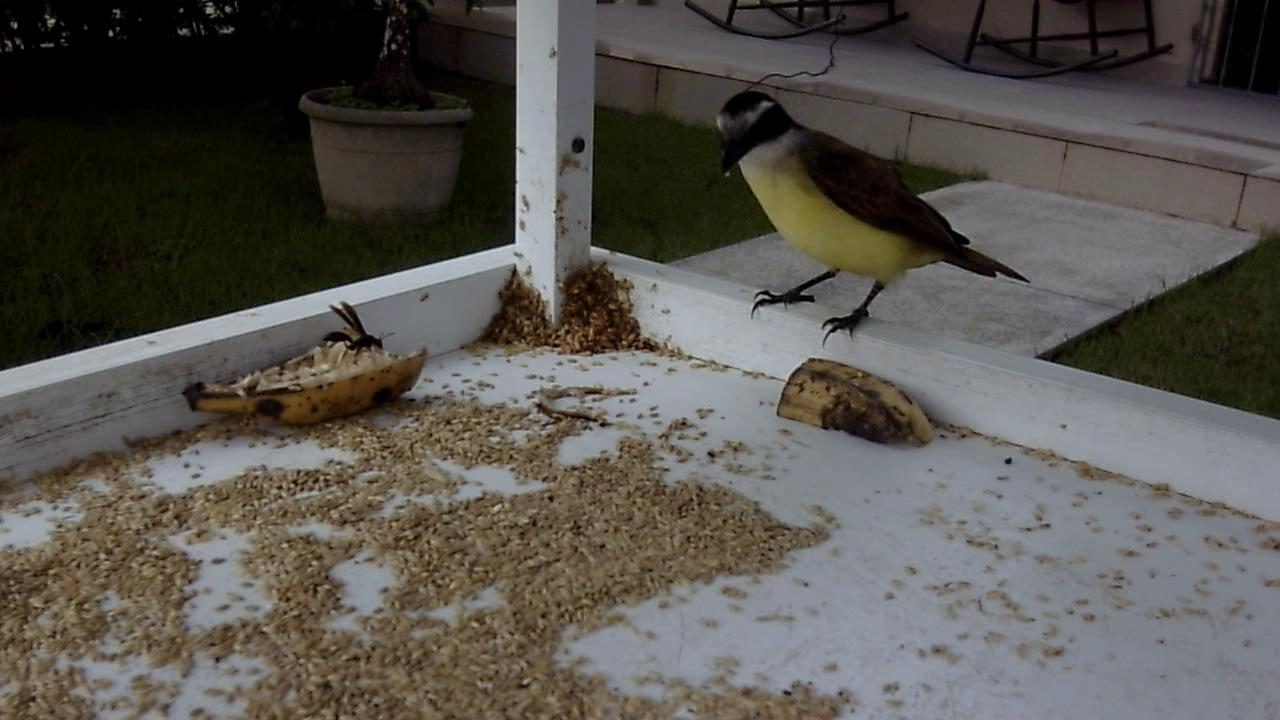bem_te_vi: (695, 72, 1049, 374)
